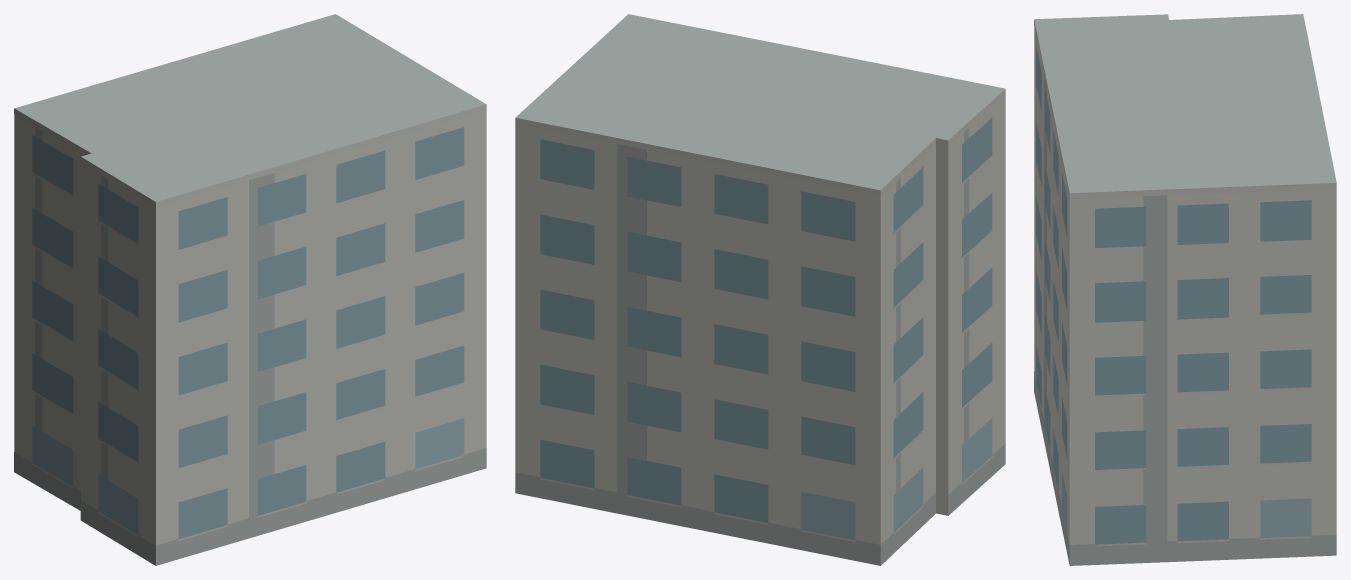
The model's file is survey-upis-32807596.glb.
3 views of the same model, side by side, from view 1: azimuth 30°, elevation 25°; view 2: azimuth 150°, elevation 25°; view 3: azimuth 270°, elevation 25° (orthographic). The views are drawn at different scales.
Visible parts, largest first — view 1: survey-upis-32807596.tmp; view 2: survey-upis-32807596.tmp; view 3: survey-upis-32807596.tmp.
Boxes of the visible parts, x1=… form: survey-upis-32807596.tmp: x1=14, y1=14, x2=486, y2=565; survey-upis-32807596.tmp: x1=515, y1=14, x2=1005, y2=565; survey-upis-32807596.tmp: x1=1034, y1=14, x2=1336, y2=565.
Size of the model in its own units: 15.68 by 15.2 by 11.19.
